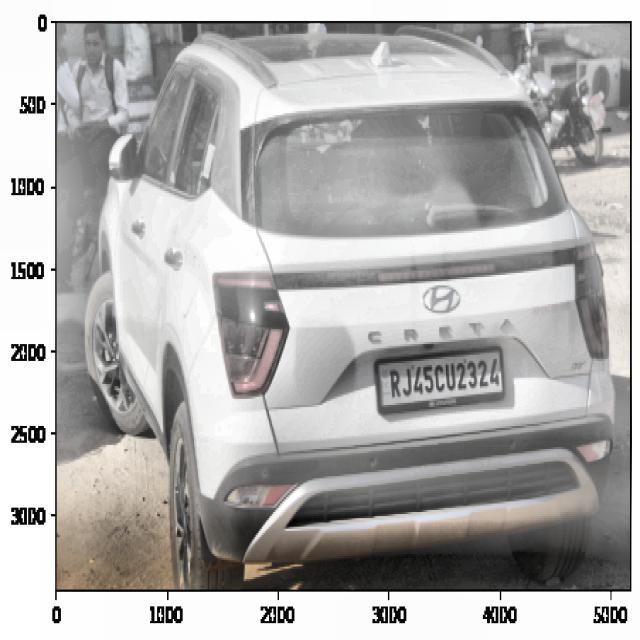license_plate: (385, 354, 503, 405)
